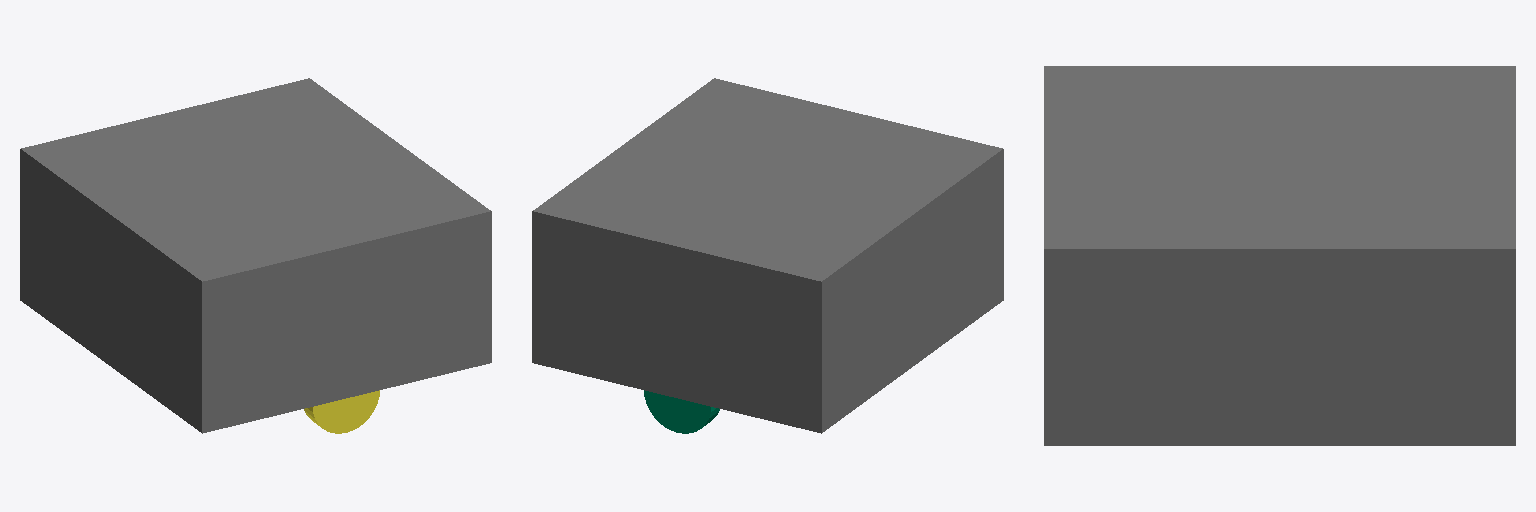
The robot description file, URDF, robot "turtlebot3_tunnel":
<?xml version="1.0" ?>
<!-- =================================================================================== -->
<!-- |    This document was autogenerated by xacro from src/tunnel_inspection_sim/urdf/tunnel_robot.xacro | -->
<!-- |    EDITING THIS FILE BY HAND IS NOT RECOMMENDED                                 | -->
<!-- =================================================================================== -->
<robot name="turtlebot3_tunnel">
  <link name="base_footprint"/>
  <joint name="base_joint" type="fixed">
    <parent link="base_footprint"/>
    <child link="base_link"/>
    <origin rpy="0 0 0" xyz="0 0 0"/>
  </joint>
  <link name="base_link">
    <visual>
      <geometry>
        <box size="0.281 0.306 0.141"/>
      </geometry>
      <material name="gray">
        <color rgba="0.5 0.5 0.5 1.0"/>
      </material>
    </visual>
    <collision>
      <geometry>
        <box size="0.281 0.306 0.141"/>
      </geometry>
    </collision>
    <inertial>
      <mass value="1.5"/>
      <inertia ixx="0.01" ixy="0" ixz="0" iyy="0.01" iyz="0" izz="0.01"/>
    </inertial>
  </link>
  <link name="wheel_left_link">
    <visual>
      <geometry>
        <cylinder length="0.018" radius="0.033"/>
      </geometry>
    </visual>
    <collision>
      <geometry>
        <cylinder length="0.018" radius="0.033"/>
      </geometry>
    </collision>
    <inertial>
      <mass value="0.1"/>
      <inertia ixx="0.0001" ixy="0" ixz="0" iyy="0.0001" iyz="0" izz="0.0001"/>
    </inertial>
  </link>
  <joint name="wheel_left_joint" type="continuous">
    <parent link="base_link"/>
    <child link="wheel_left_link"/>
    <origin rpy="-1.5708 0 0" xyz="0 0.143 -0.07"/>
    <axis xyz="0 0 1"/>
  </joint>
  <link name="wheel_right_link">
    <visual>
      <geometry>
        <cylinder length="0.018" radius="0.033"/>
      </geometry>
    </visual>
    <collision>
      <geometry>
        <cylinder length="0.018" radius="0.033"/>
      </geometry>
    </collision>
    <inertial>
      <mass value="0.1"/>
      <inertia ixx="0.0001" ixy="0" ixz="0" iyy="0.0001" iyz="0" izz="0.0001"/>
    </inertial>
  </link>
  <joint name="wheel_right_joint" type="continuous">
    <parent link="base_link"/>
    <child link="wheel_right_link"/>
    <origin rpy="-1.5708 0 0" xyz="0 -0.143 -0.07"/>
    <axis xyz="0 0 1"/>
  </joint>
  <link name="caster_link">
    <collision>
      <geometry>
        <sphere radius="0.03"/>
      </geometry>
    </collision>
    <inertial>
      <mass value="0.1"/>
      <inertia ixx="0.0001" ixy="0" ixz="0" iyy="0.0001" iyz="0" izz="0.0001"/>
    </inertial>
  </link>
  <joint name="caster_joint" type="fixed">
    <parent link="base_link"/>
    <child link="caster_link"/>
    <origin rpy="0 0 0" xyz="0.1 0 -0.07"/>
  </joint>
  <link name="lidar_link"/>
  <joint name="lidar_joint" type="fixed">
    <parent link="base_link"/>
    <child link="lidar_link"/>
    <origin rpy="0 0 0" xyz="0.1 0 0.08"/>
  </joint>
  <link name="left_camera_link"/>
  <joint name="left_camera_joint" type="fixed">
    <parent link="base_link"/>
    <child link="left_camera_link"/>
    <origin rpy="0 -0.5 0.785" xyz="0.1 0.05 0.1"/>
  </joint>
  <link name="right_camera_link"/>
  <joint name="right_camera_joint" type="fixed">
    <parent link="base_link"/>
    <child link="right_camera_link"/>
    <origin rpy="0 -0.5 -0.785" xyz="0.1 -0.05 0.1"/>
  </joint>
  <gazebo>
    <plugin filename="libignition-gazebo-diff-drive-system.so" name="ignition::gazebo::systems::DiffDrive">
      <left_joint>wheel_left_joint</left_joint>
      <right_joint>wheel_right_joint</right_joint>
      <wheel_separation>0.286</wheel_separation>
      <wheel_radius>0.033</wheel_radius>
      <odom_publish_frequency>30</odom_publish_frequency>
      <topic>cmd_vel</topic>
      <odom_topic>odom</odom_topic>
      <tf_topic>tf</tf_topic>
      <frame_id>odom</frame_id>
      <child_frame_id>base_link</child_frame_id>
    </plugin>
  </gazebo>
  <gazebo reference="caster_link">
    <mu1>0.0</mu1>
    <mu2>0.0</mu2>
  </gazebo>
  <gazebo reference="lidar_link">
    <sensor name="lidar" type="gpu_lidar">
      <update_rate>10</update_rate>
      <topic>scan</topic>
      <lidar>
        <scan>
          <horizontal>
            <samples>360</samples>
            <resolution>1</resolution>
            <min_angle>-3.14159</min_angle>
            <max_angle>3.14159</max_angle>
          </horizontal>
        </scan>
        <range>
          <min>0.12</min>
          <max>10.0</max>
        </range>
      </lidar>
      <always_on>1</always_on>
      <visualize>true</visualize>
    </sensor>
  </gazebo>
  <gazebo reference="left_camera_link">
    <sensor name="left_rgbd_camera" type="rgbd_camera">
      <topic>left_camera</topic>
      <update_rate>15</update_rate>
      <camera>
        <horizontal_fov>1.047</horizontal_fov>
        <image>
          <width>640</width>
          <height>480</height>
        </image>
        <clip>
          <near>0.1</near>
          <far>10.0</far>
        </clip>
      </camera>
      <always_on>1</always_on>
      <visualize>true</visualize>
    </sensor>
  </gazebo>
  <gazebo reference="right_camera_link">
    <sensor name="right_rgbd_camera" type="rgbd_camera">
      <topic>right_camera</topic>
      <update_rate>15</update_rate>
      <camera>
        <horizontal_fov>1.047</horizontal_fov>
        <image>
          <width>640</width>
          <height>480</height>
        </image>
        <clip>
          <near>0.1</near>
          <far>10.0</far>
        </clip>
      </camera>
      <always_on>1</always_on>
      <visualize>true</visualize>
    </sensor>
  </gazebo>
</robot>

--- Facts derived from the render (not from the file) ---
The picture shows the robot from 3 angles, left to right: view 1: azimuth 30°, elevation 25°; view 2: azimuth 150°, elevation 25°; view 3: azimuth 270°, elevation 25°; orthographic projection.
Model turtlebot3_tunnel with 8 links and 7 joints (2 continuous, 5 fixed), rooted at base_footprint, posed every joint at zero.
Visible links, largest first — view 1: base_link, wheel_right_link; view 2: base_link, wheel_left_link; view 3: base_link.
Boxes of the visible links, left/top/right/bottom form: base_link: left=20, top=78, right=491, bottom=433; wheel_right_link: left=304, top=390, right=379, bottom=433; base_link: left=532, top=78, right=1003, bottom=433; wheel_left_link: left=644, top=390, right=719, bottom=433; base_link: left=1044, top=66, right=1515, bottom=445.
Bounding box of the posed robot: 0.281 × 0.306 × 0.1735 m (x, y, z).
Geometry: primitives only (box / cylinder / sphere), no mesh files.
